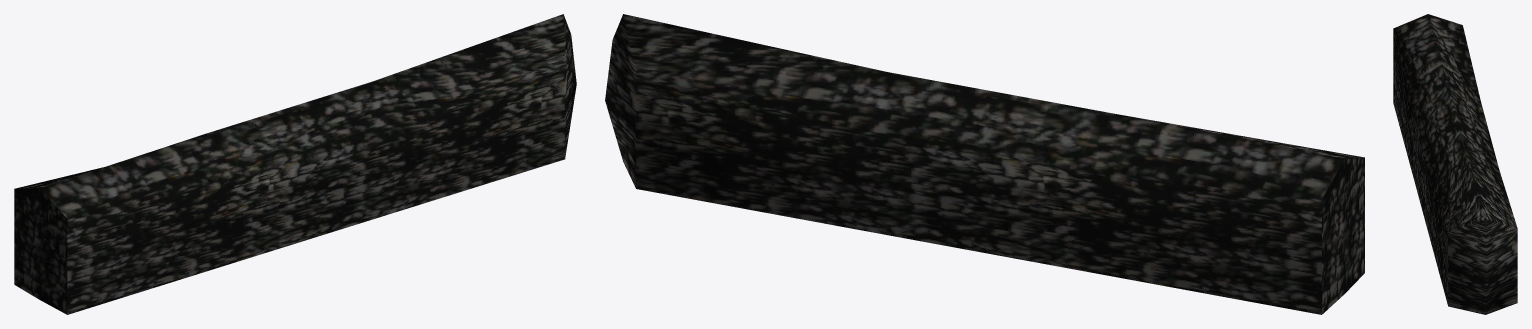
Rendered from INST_SM_BURNTWOODB.fbx.
The picture shows the model from 3 angles, left to right: view 1: azimuth 30°, elevation 25°; view 2: azimuth 150°, elevation 25°; view 3: azimuth 270°, elevation 25°; orthographic projection. The views are drawn at different scales.
Visible parts, largest first — view 1: INST_SM_BURNTWOODB; view 2: INST_SM_BURNTWOODB; view 3: INST_SM_BURNTWOODB.
Boxes of the visible parts, left/top/right/bottom form: INST_SM_BURNTWOODB: left=14, top=14, right=576, bottom=314; INST_SM_BURNTWOODB: left=605, top=14, right=1364, bottom=314; INST_SM_BURNTWOODB: left=1393, top=14, right=1517, bottom=314.
Size of the model in its own units: 112539 by 22757 by 26791.
Materials: 1 (1 with a texture image).
